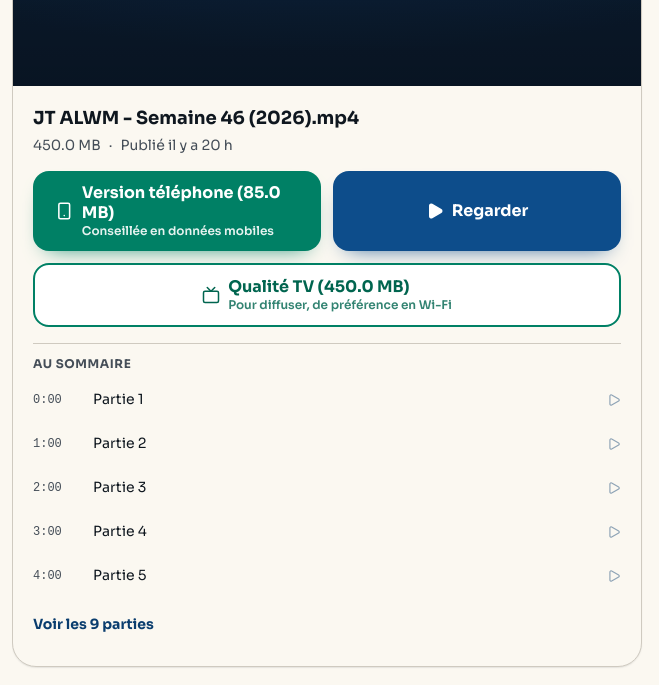
Test: le JT prêt sur un téléphone › replie un long sommaire, et le déplie d’un geste
(page scrolled)
Expected: the text "Partie 9" is not shown
Click the button "Voir les 9 parties". click: (93, 624)
box: [33,602,154,646]
(page scrolled)
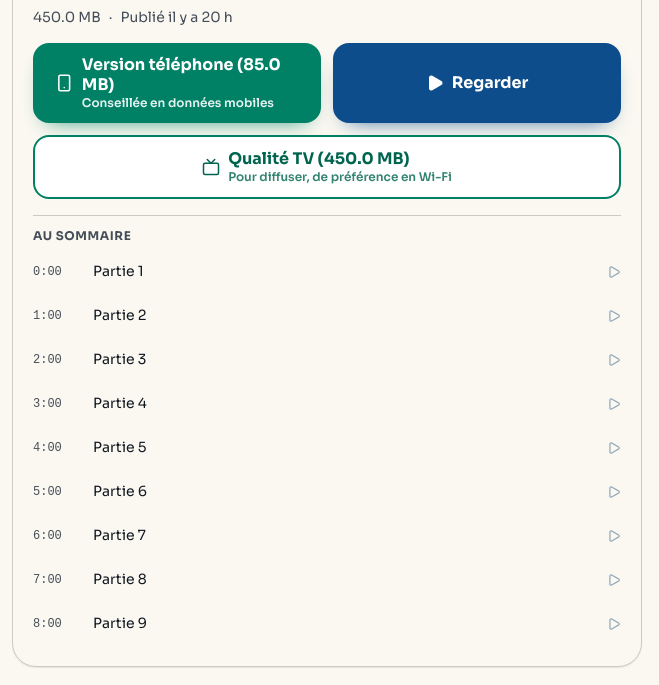
Result: the text "Partie 9" is shown at [93,614,147,632]
